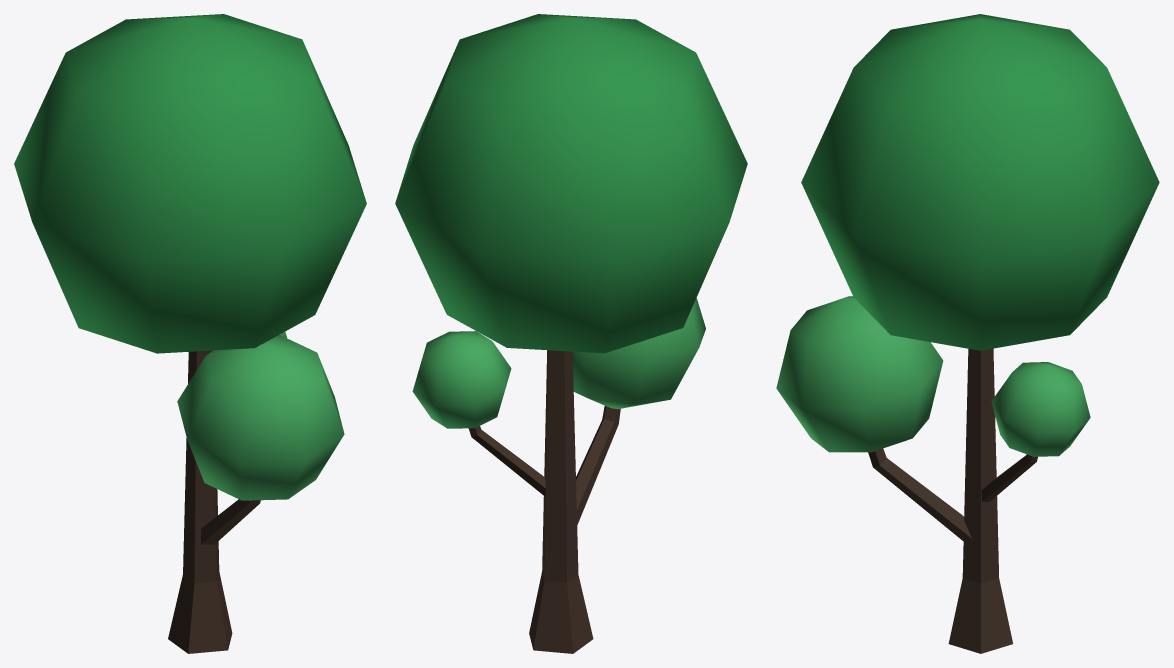
Rendered from BigBallTree.fbx.
3 renders of one model, left to right at view 1: azimuth 30°, elevation 25°; view 2: azimuth 150°, elevation 25°; view 3: azimuth 270°, elevation 25°, orthographic.
Parts seen in each view (by area): view 1: Tree2_a_LP_LOD0; view 2: Tree2_a_LP_LOD0; view 3: Tree2_a_LP_LOD0.
Part boxes in pixels (<box>): Tree2_a_LP_LOD0: <box>14,14,366,653</box>; Tree2_a_LP_LOD0: <box>395,14,747,653</box>; Tree2_a_LP_LOD0: <box>776,14,1159,653</box>.
Size of the model in its own units: 830 by 1568 by 887.
